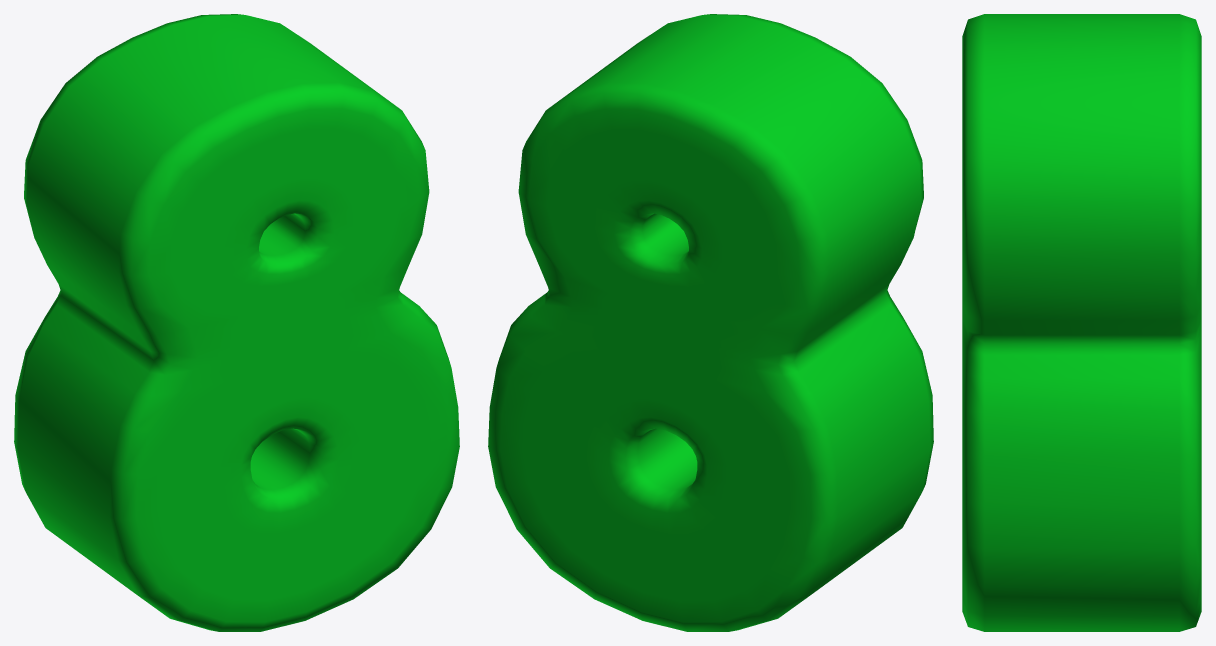
The picture shows the model from 3 angles, left to right: view 1: azimuth 30°, elevation 25°; view 2: azimuth 150°, elevation 25°; view 3: azimuth 270°, elevation 25°; orthographic projection. The views are drawn at different scales.
Parts seen in each view (by area): view 1: A:Mesh8_numbers_0; view 2: A:Mesh8_numbers_0; view 3: A:Mesh8_numbers_0.
Part boxes in pixels (x1=…): A:Mesh8_numbers_0: x1=14, y1=14, x2=459, y2=631; A:Mesh8_numbers_0: x1=488, y1=14, x2=933, y2=631; A:Mesh8_numbers_0: x1=962, y1=14, x2=1201, y2=631.
Bounding box in the file's own units: 23.99 × 35.31 × 13.53.
